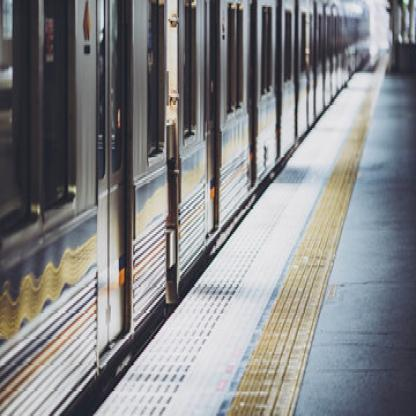podotacti: (215, 43, 389, 416)
